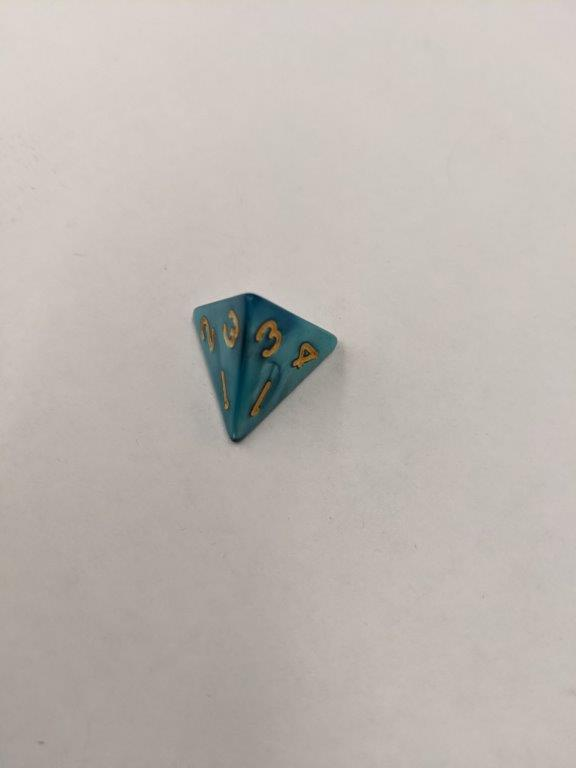d4-3: (188, 290, 340, 445)
